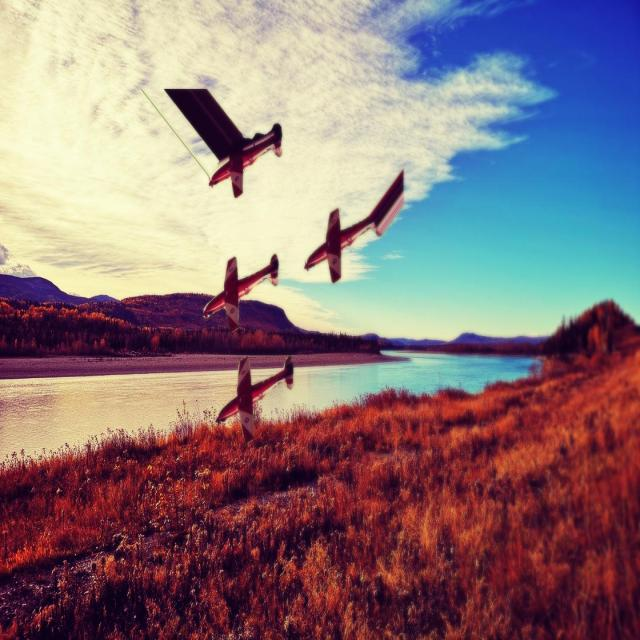airplane: (164, 86, 282, 198), (304, 168, 404, 283), (215, 355, 294, 443), (201, 252, 279, 333)
